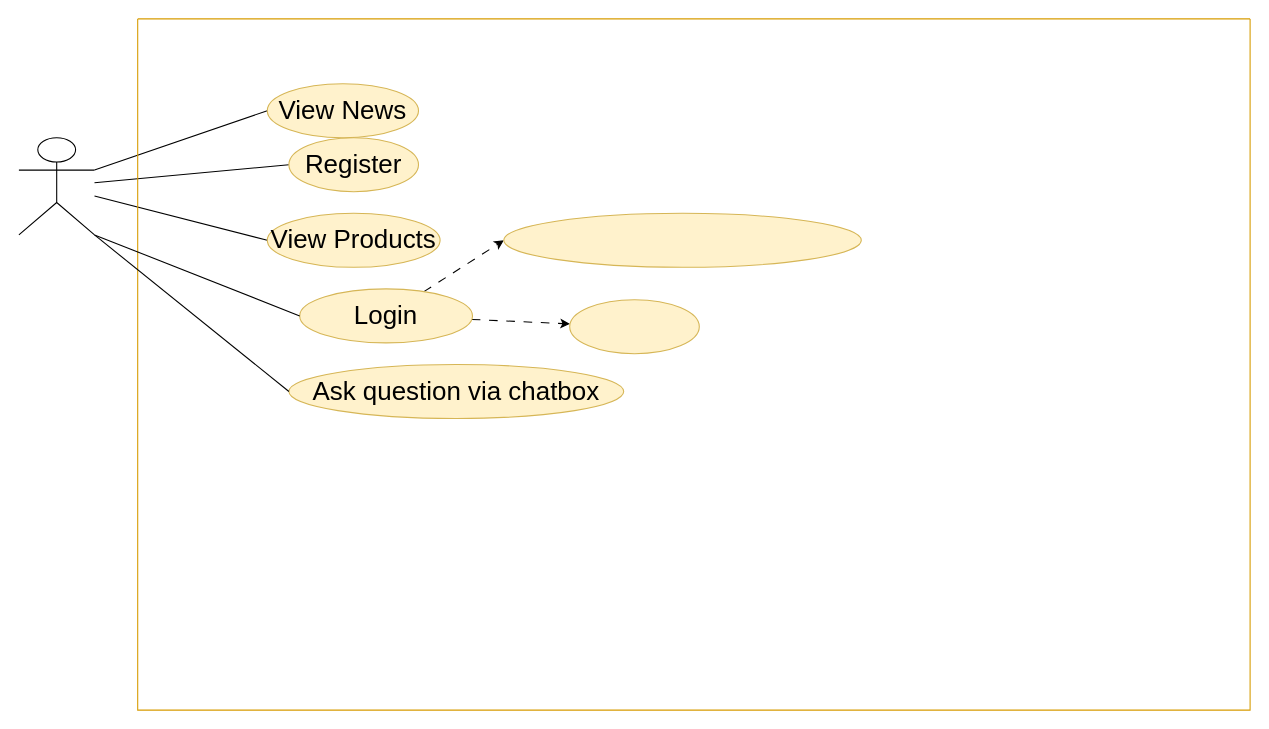
Image size: 1269x729. Some labels were removed from this diagram. The shapes that lost their labels are listed below. From the top down, each one's centre as x and y in pixels, then its label:
At pixel 56 186: "Guest".
At pixel 682 239: "Update personal information".
At pixel 634 326: "Logout".
